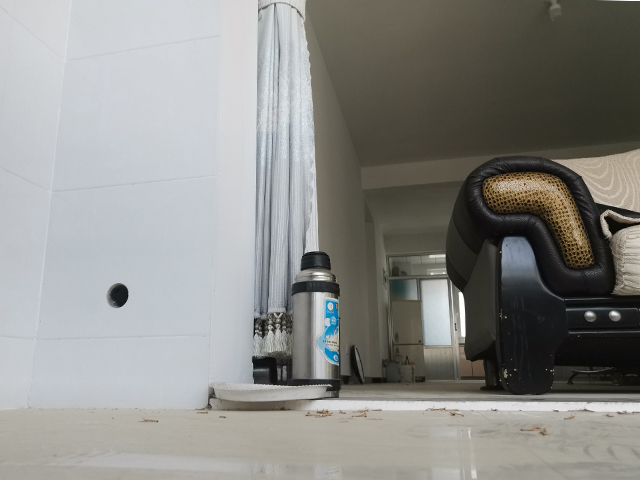curtain: (251, 1, 321, 365)
sofa: (443, 149, 640, 396)
trashcan: (398, 363, 418, 385)
